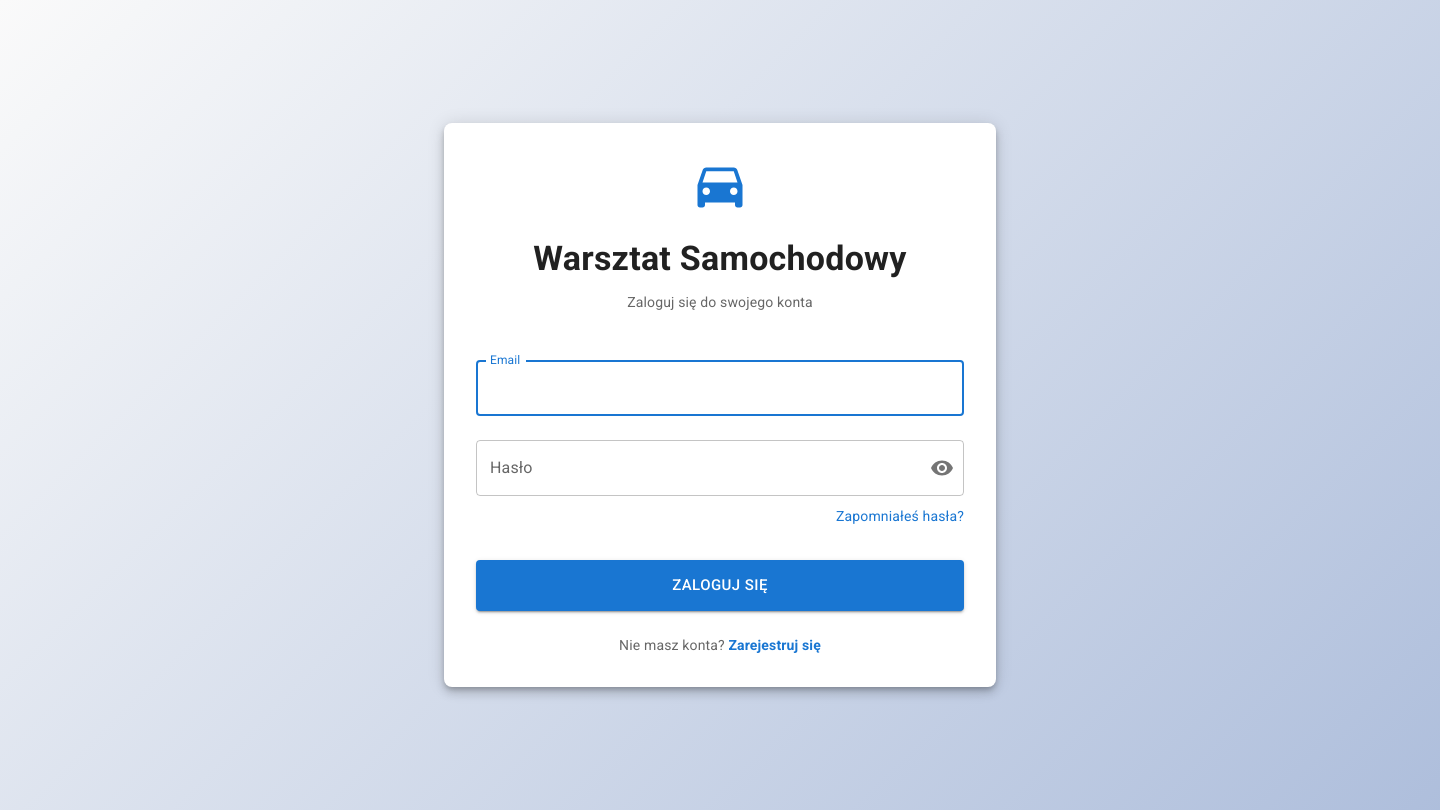
Scenario: LoginPage › should show error alert when login fails
In the field labelled "Email": coordinates (720, 388) [476,360,964,416], type "bad@example.com"
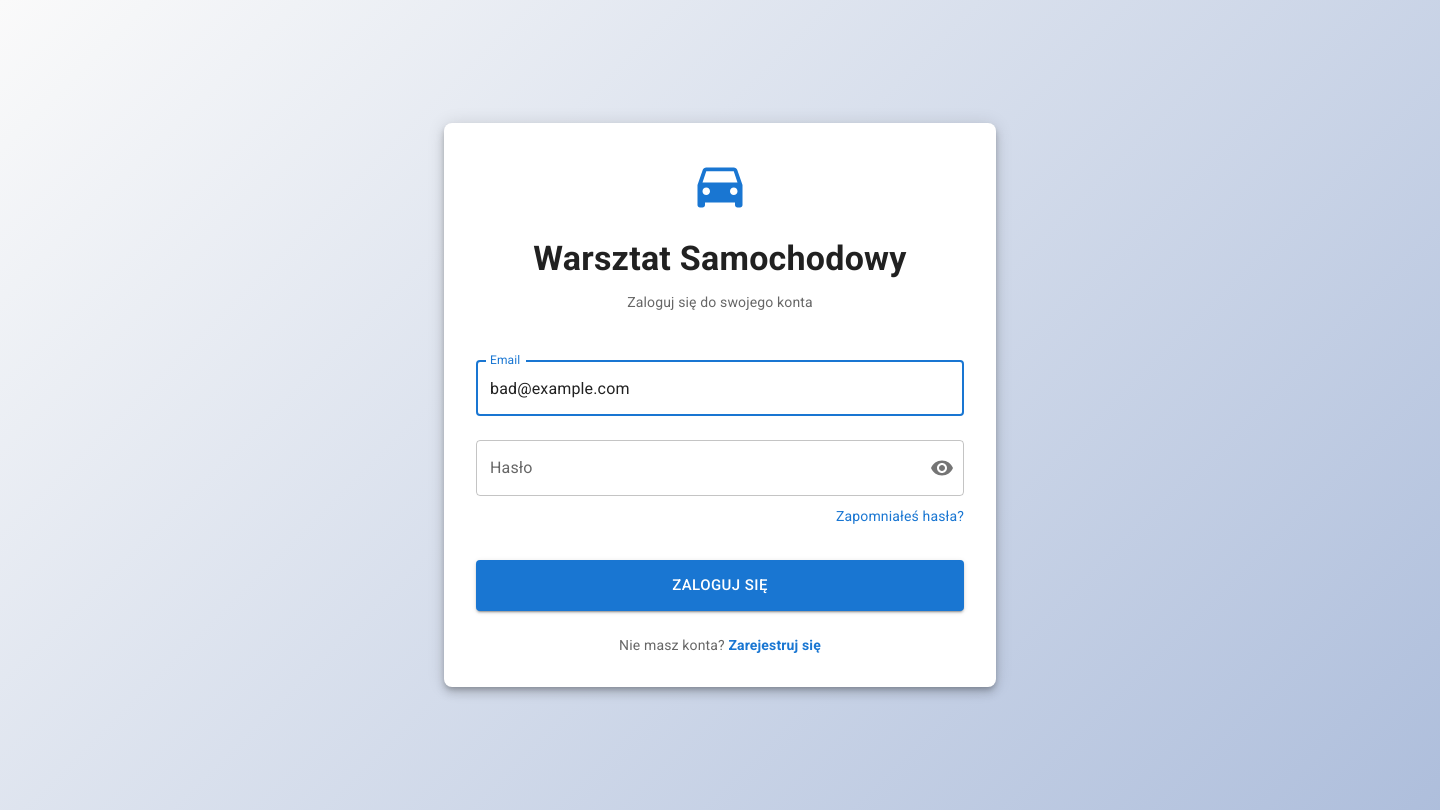
In the password field labelled "Hasło": coordinates (695, 468) [476,440,914,496], type "WrongPass1!"
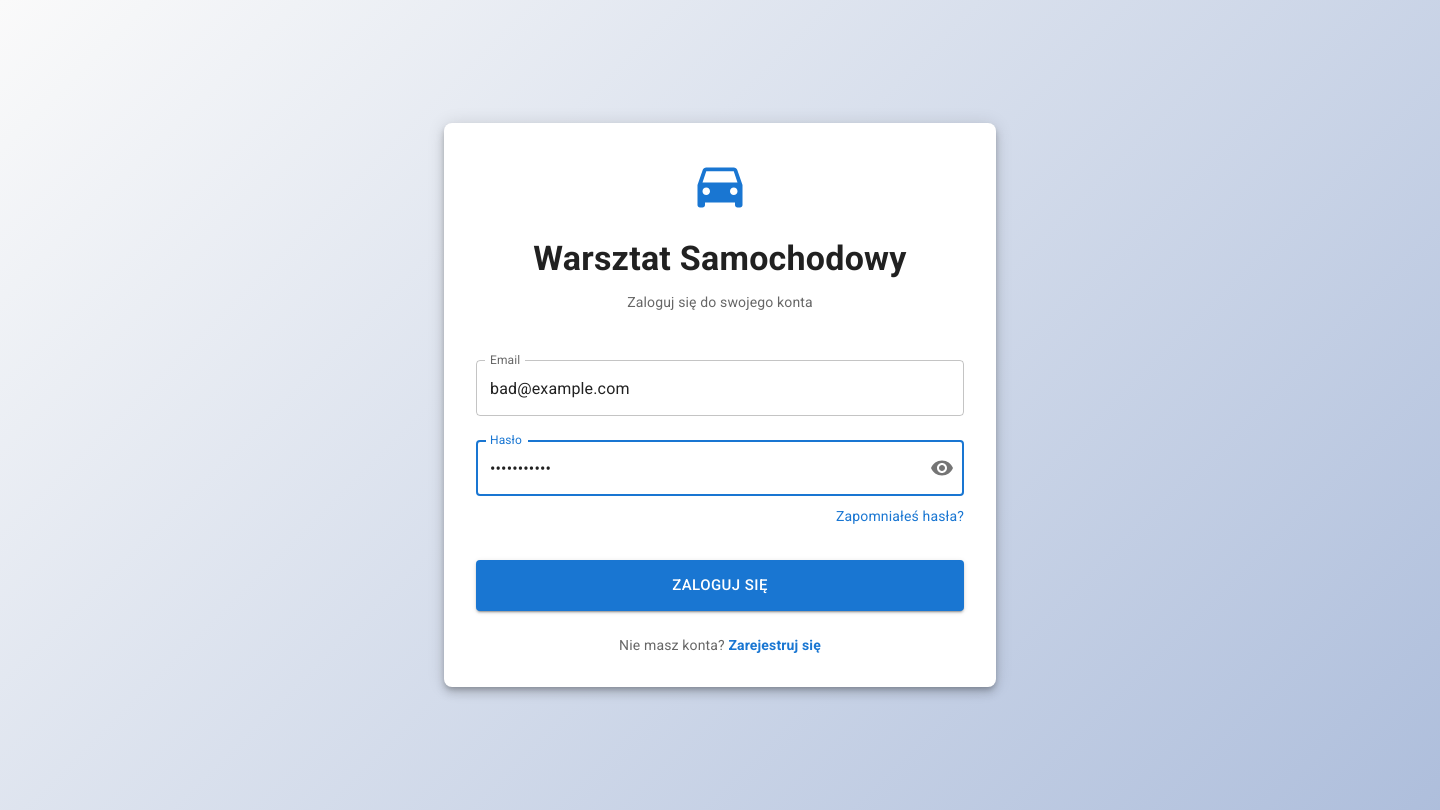
Click the button "Zaloguj się": coordinates (720, 585) [476,560,964,611]
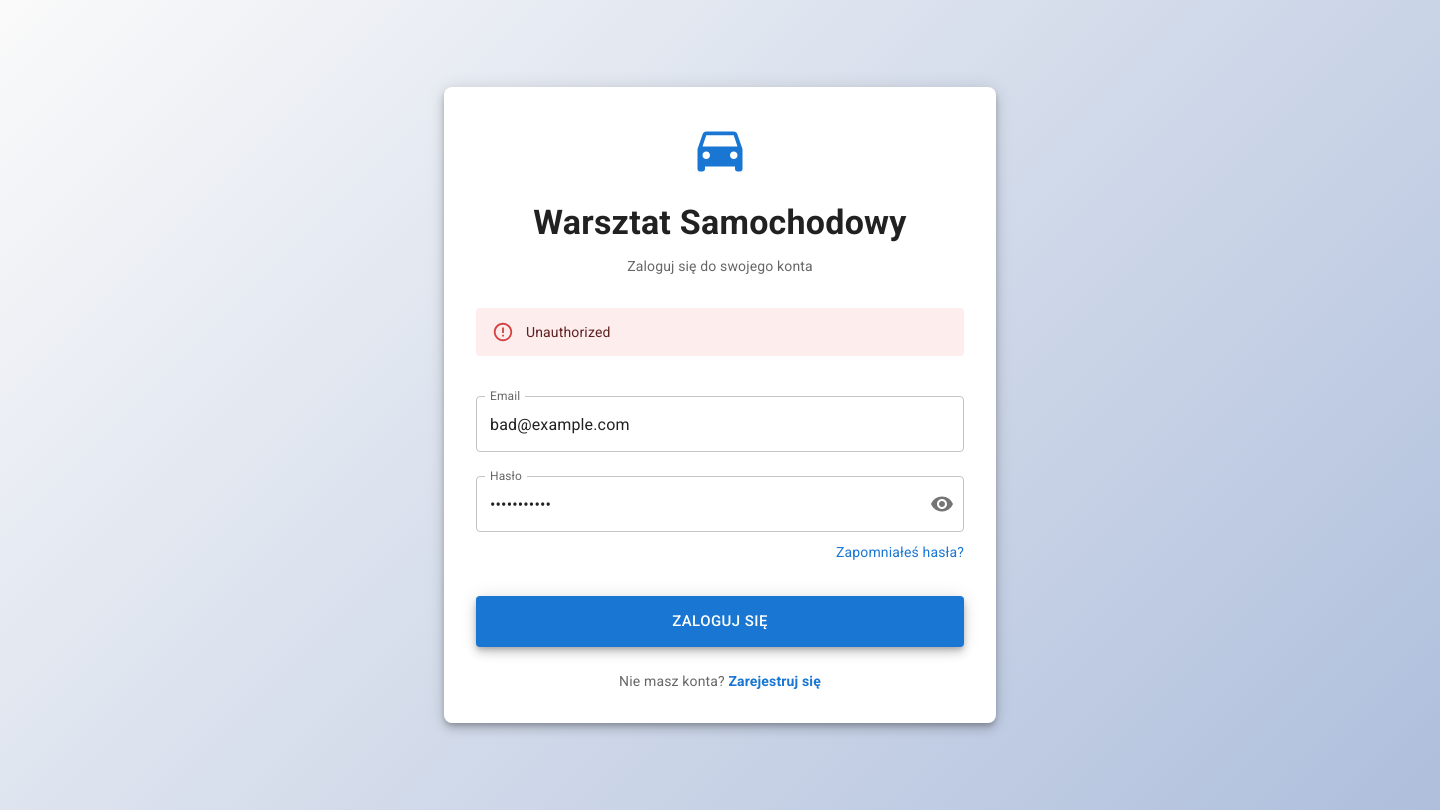
Expected: the message "Unauthorized" is shown, [476,308,964,356]
